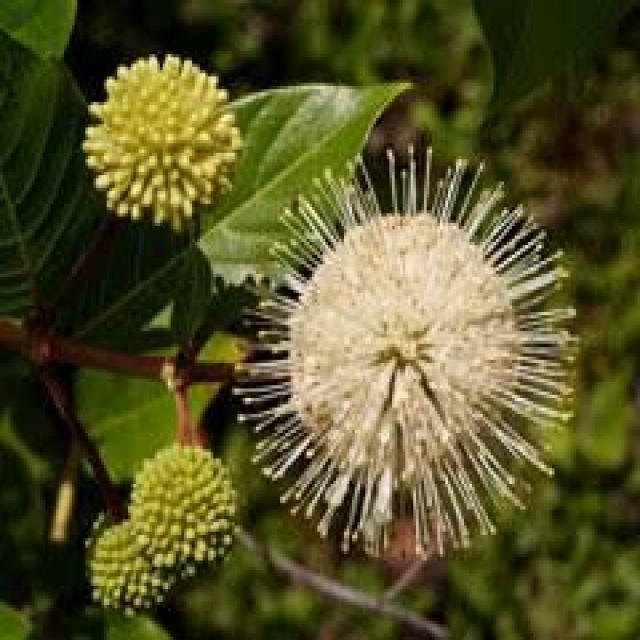organic waste: (253, 151, 579, 559)
